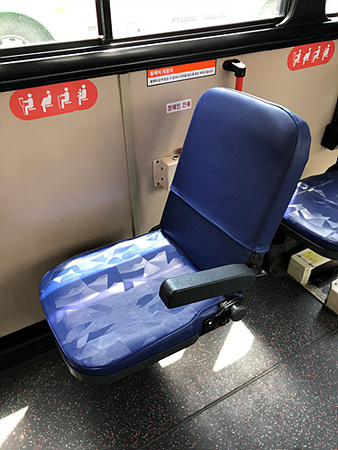seat: (37, 84, 311, 388)
